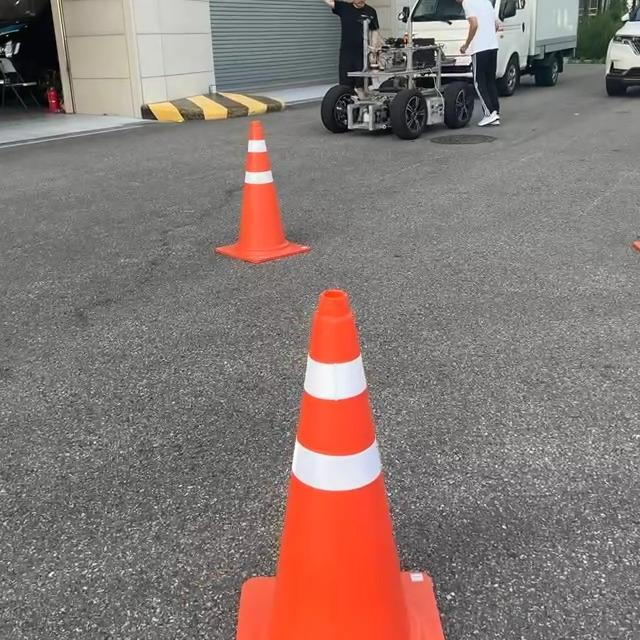fallen_object: (155, 280, 502, 640), (175, 89, 345, 273)
